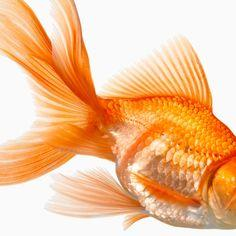goldfish: (36, 58, 236, 236)
